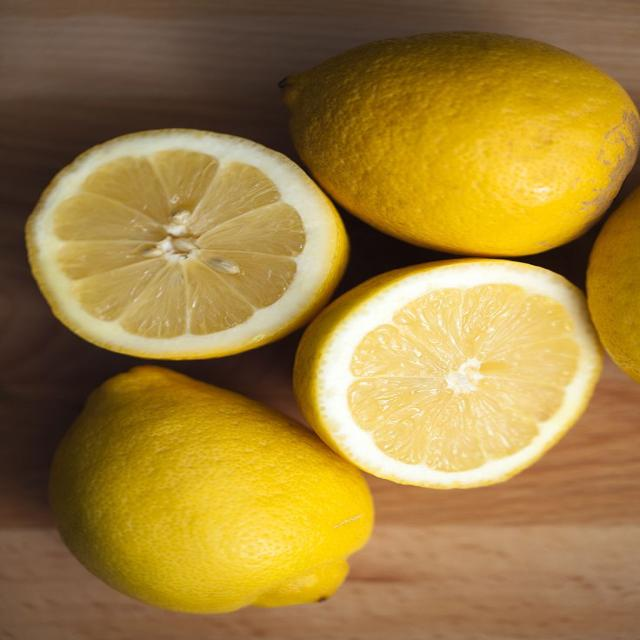lemon: (281, 32, 639, 256), (51, 367, 373, 612), (27, 129, 347, 358), (294, 259, 600, 488), (587, 189, 639, 381)
